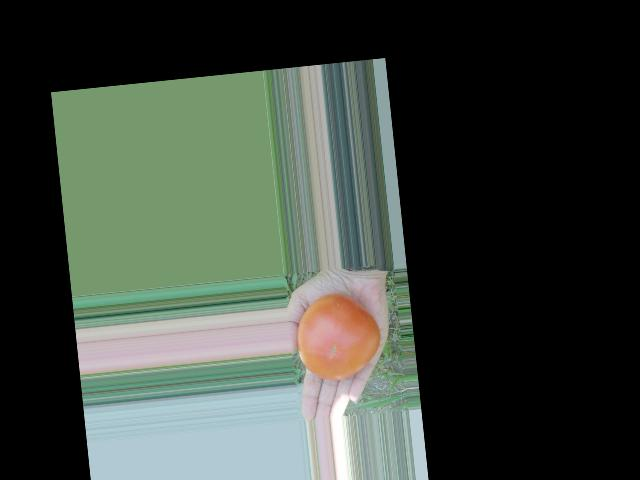tomato: (293, 290, 384, 383)
